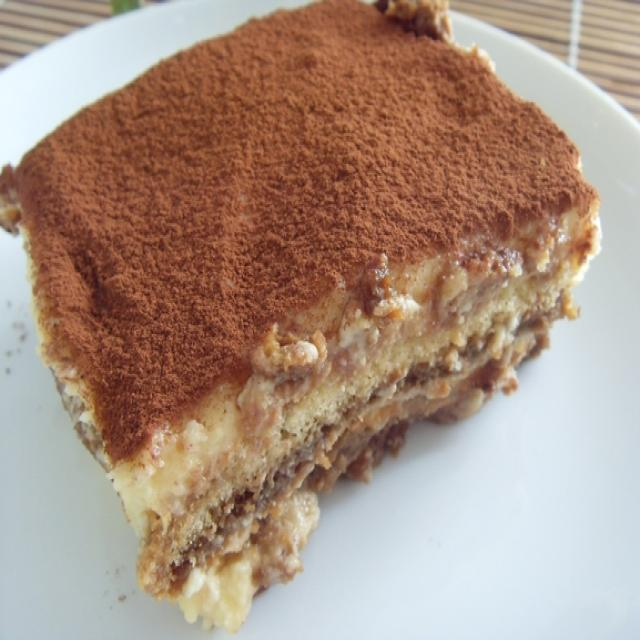蛋糕甜品: (10, 10, 601, 599)
